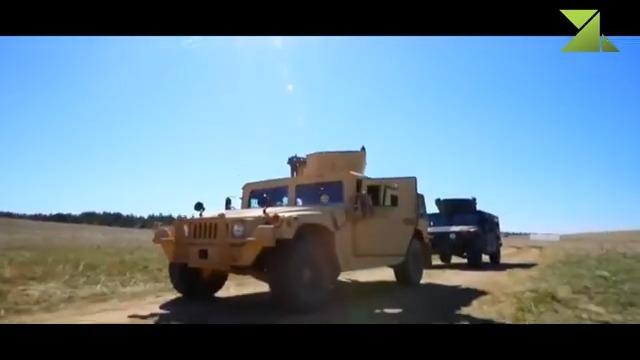MIL_HMMWV: (151, 169, 429, 310), (427, 207, 503, 271)
